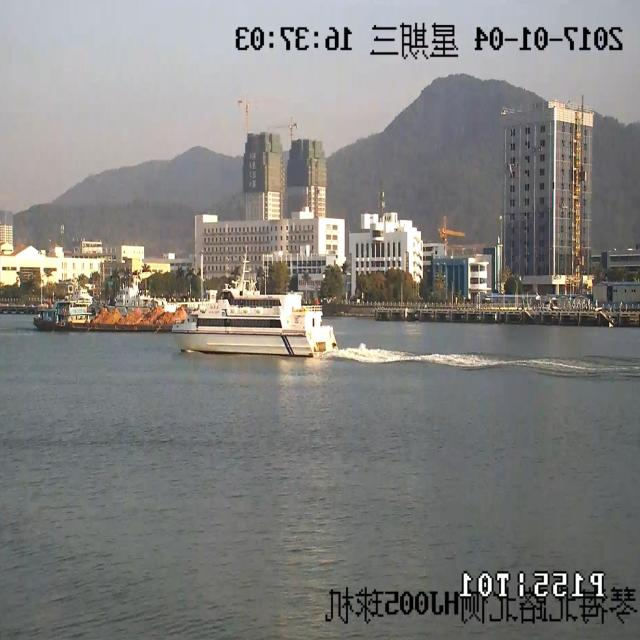cargoship: (20, 280, 200, 334)
passenger ship: (168, 267, 335, 358)
